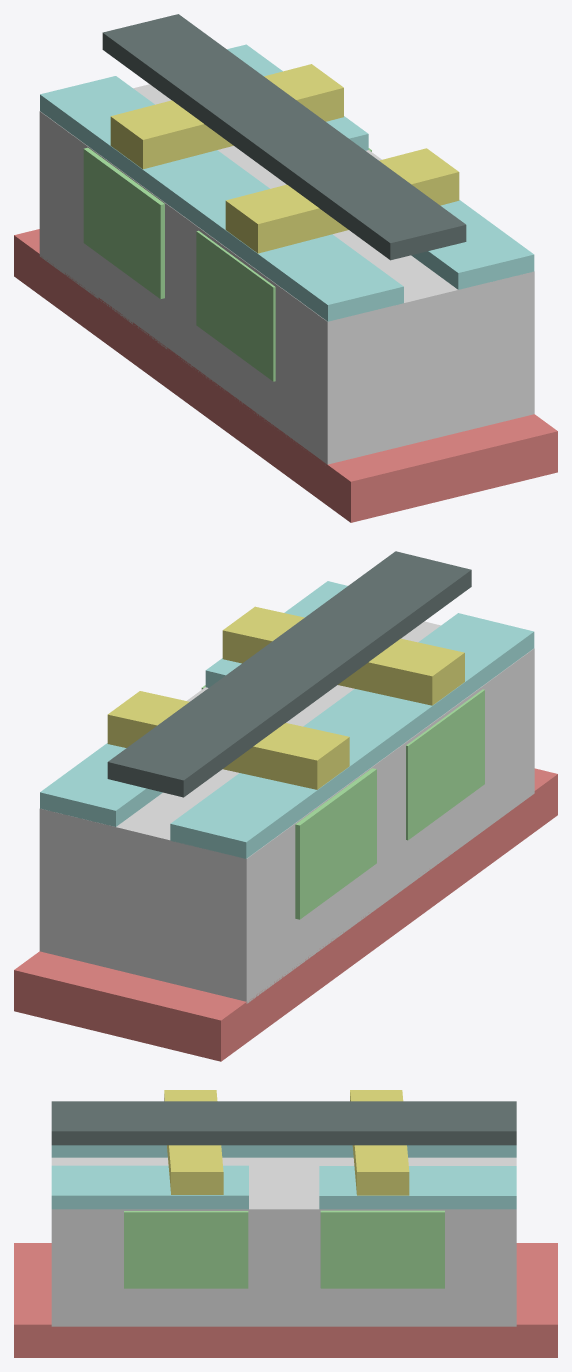
The model's file is packaging.gltf.
3 views of the same model, one above another, from view 1: azimuth 30°, elevation 25°; view 2: azimuth 150°, elevation 25°; view 3: azimuth 270°, elevation 25° (orthographic). The views are drawn at different scales.
Visible parts, largest first — view 1: Cube, Cube.008, Cube.009, Cube.003, Cube.005, Cube.007, Cube.006, Cube.002, Cube.004, Cube.001; view 2: Cube, Cube.008, Cube.009, Cube.003, Cube.005, Cube.006, Cube.007, Cube.002, Cube.001, Cube.004; view 3: Cube, Cube.009, Cube.008, Cube.005, Cube.002, Cube.004, Cube.001, Cube.003, Cube.006, Cube.007.
Boxes of the visible parts, box(x1,y1,x2,y2) form: Cube: box(39, 84, 534, 465); Cube.008: box(102, 14, 466, 260); Cube.009: box(14, 229, 557, 522); Cube.003: box(40, 76, 403, 321); Cube.005: box(83, 147, 371, 299); Cube.007: box(225, 148, 459, 253); Cube.006: box(110, 64, 343, 169); Cube.002: box(196, 230, 275, 381); Cube.004: box(411, 200, 534, 289); Cube.001: box(227, 44, 368, 150); Cube: box(39, 621, 534, 1003); Cube.008: box(107, 551, 471, 797); Cube.009: box(14, 768, 557, 1061); Cube.003: box(170, 613, 534, 858); Cube.005: box(295, 768, 376, 919); Cube.006: box(107, 691, 349, 789); Cube.007: box(222, 606, 464, 705); Cube.002: box(201, 685, 484, 840); Cube.001: box(40, 743, 162, 826); Cube.004: box(205, 581, 347, 687); Cube: box(51, 1157, 516, 1326); Cube.009: box(14, 1243, 557, 1357); Cube.008: box(51, 1101, 516, 1145); Cube.005: box(320, 1210, 444, 1288); Cube.002: box(124, 1211, 248, 1288); Cube.004: box(51, 1165, 248, 1209); Cube.001: box(319, 1166, 516, 1209); Cube.003: box(51, 1145, 516, 1157); Cube.006: box(350, 1090, 409, 1195); Cube.007: box(164, 1090, 223, 1194).
Size of the model in its own units: 2.08 by 2.28 by 5.63.
